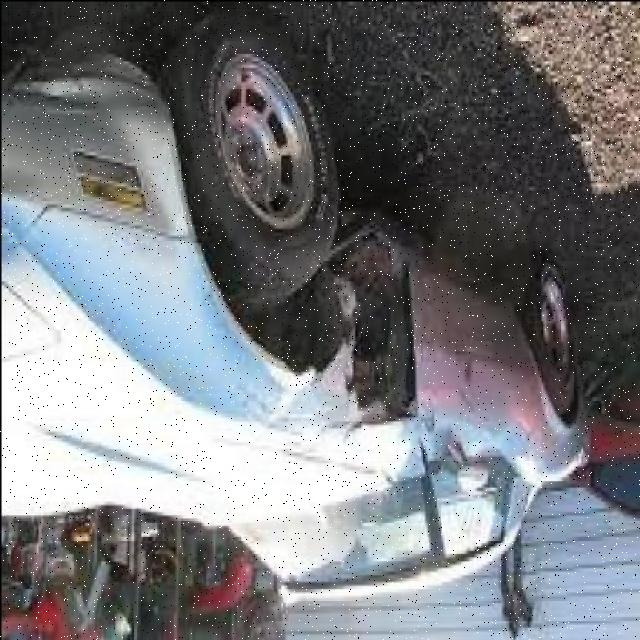damage: (225, 222, 433, 488)
